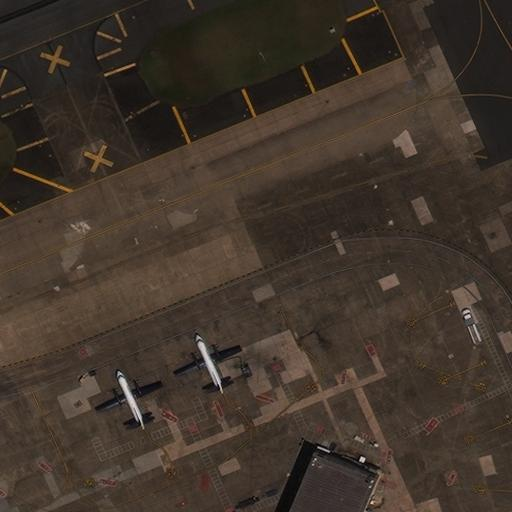Medium Civil Transport: (95, 370, 159, 429), (174, 335, 238, 393)
